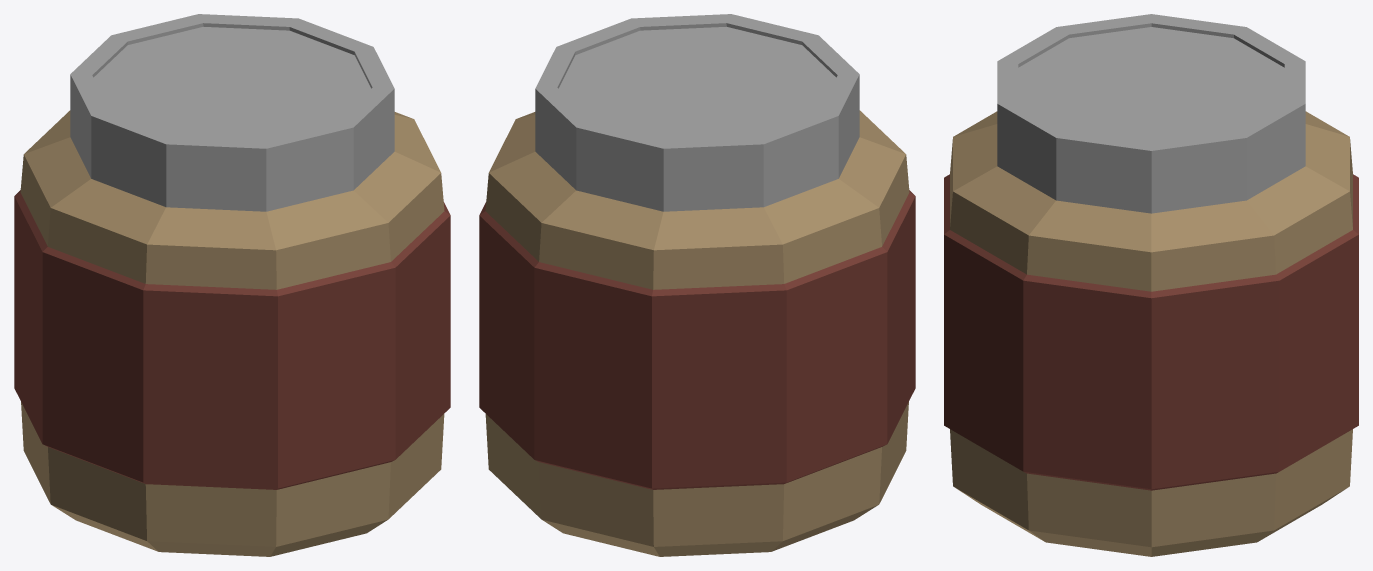
File: Jar_Large.glb
The picture shows the model from 3 angles, left to right: view 1: azimuth 30°, elevation 25°; view 2: azimuth 150°, elevation 25°; view 3: azimuth 270°, elevation 25°; orthographic projection.
Visible parts, largest first — view 1: Jar_Large; view 2: Jar_Large; view 3: Jar_Large.
Part boxes in pixels (box(x1,y1,x2,y2)): Jar_Large: box(14, 14, 450, 556); Jar_Large: box(479, 14, 915, 556); Jar_Large: box(944, 14, 1358, 556).
Bounding box in the file's own units: 0.1077 × 0.1085 × 0.1024.
